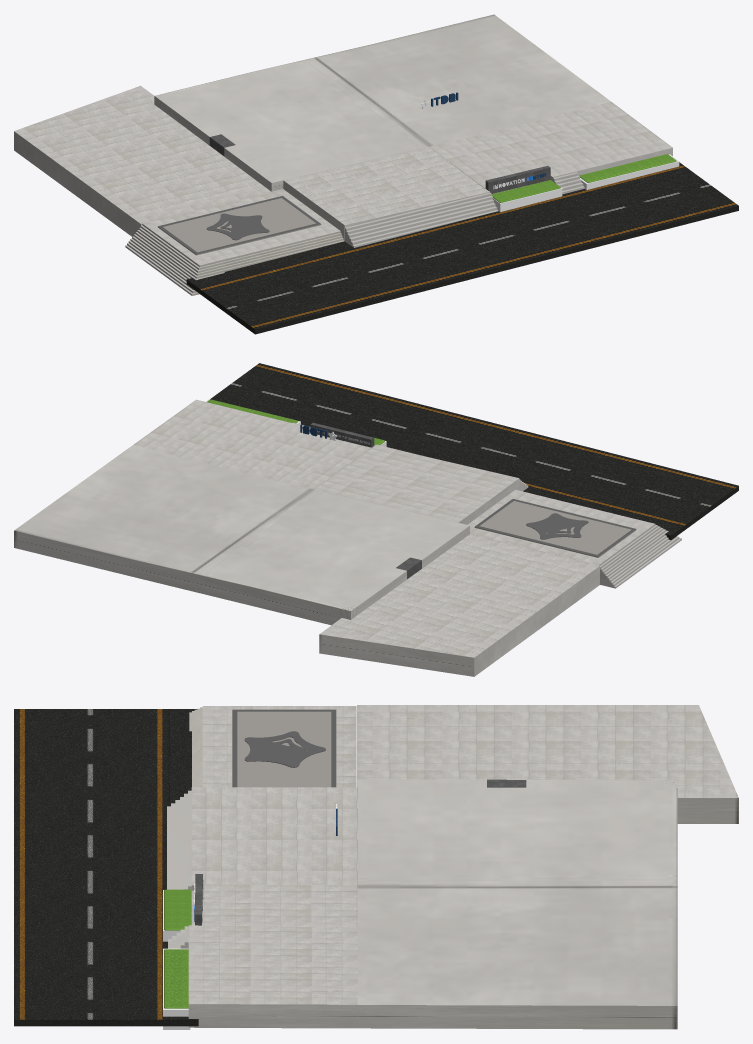
The model's file is innocent luar revision.fbx.
3 views of the same model, one above another, from view 1: azimuth 30°, elevation 25°; view 2: azimuth 150°, elevation 25°; view 3: azimuth 270°, elevation 25° (orthographic). The views are drawn at different scales.
Parts seen in each view (by area): view 1: area luar, jalan aspal, area luar.001, bintang, tangga 1, innocent; view 2: area luar, jalan aspal, area luar.001, bintang, innocent; view 3: area luar, jalan aspal, bintang, area luar.001, tangga 1.
Part boxes in pixels (<box>): area luar: <box>14,14,679,240</box>; jalan aspal: <box>186,162,738,334</box>; area luar.001: <box>125,189,344,295</box>; bintang: <box>157,196,321,255</box>; tangga 1: <box>345,192,498,247</box>; innocent: <box>485,166,550,193</box>; area luar: <box>14,399,599,676</box>; jalan aspal: <box>210,363,738,539</box>; area luar.001: <box>467,489,681,588</box>; bintang: <box>474,499,636,557</box>; innocent: <box>310,422,374,447</box>; area luar: <box>163,705,738,1029</box>; jalan aspal: <box>14,709,198,1026</box>; bintang: <box>232,709,336,787</box>; area luar.001: <box>189,706,356,787</box>; tangga 1: <box>167,790,191,890</box>.
Size of the model in its own units: 5295 by 842 by 5054.
17 materials, 7 textured.
